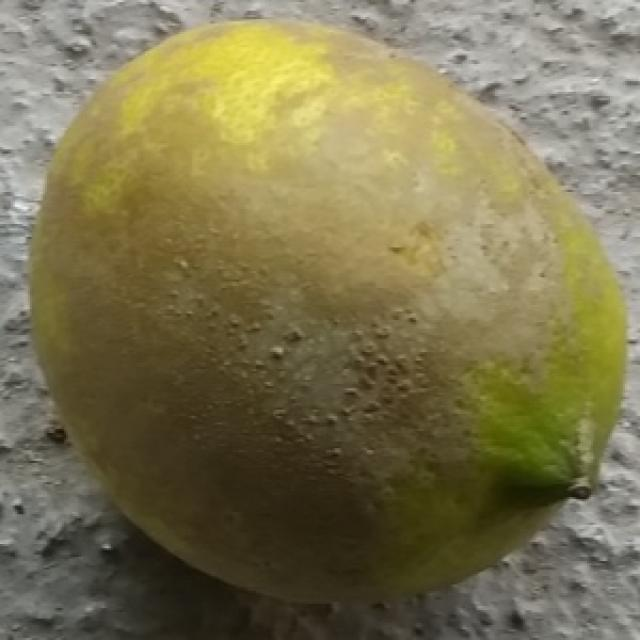overripe: (20, 18, 638, 613)
